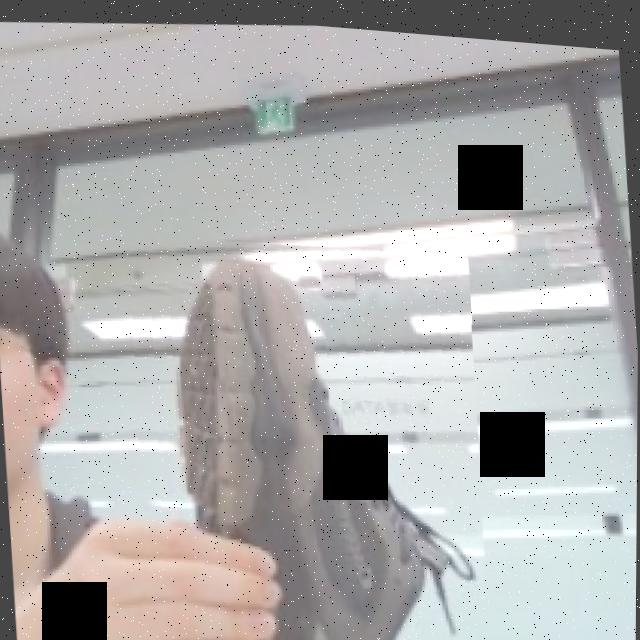shoe: (115, 207, 496, 640)
